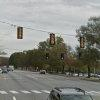Crosswalk: (1, 77, 57, 99)
